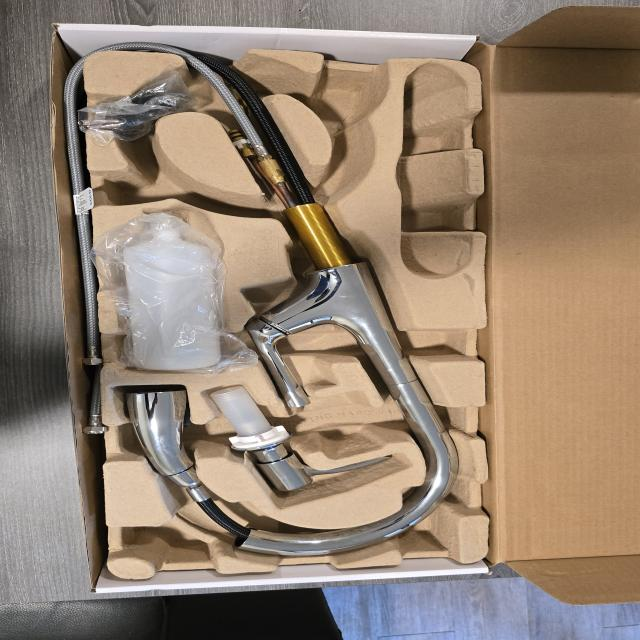1: (124, 45, 461, 559)
2: (204, 386, 392, 495)
3: (123, 214, 222, 370)
4m: (394, 64, 472, 279)
5m: (312, 73, 382, 129)
6m: (106, 145, 228, 214)
7: (72, 64, 211, 147)
